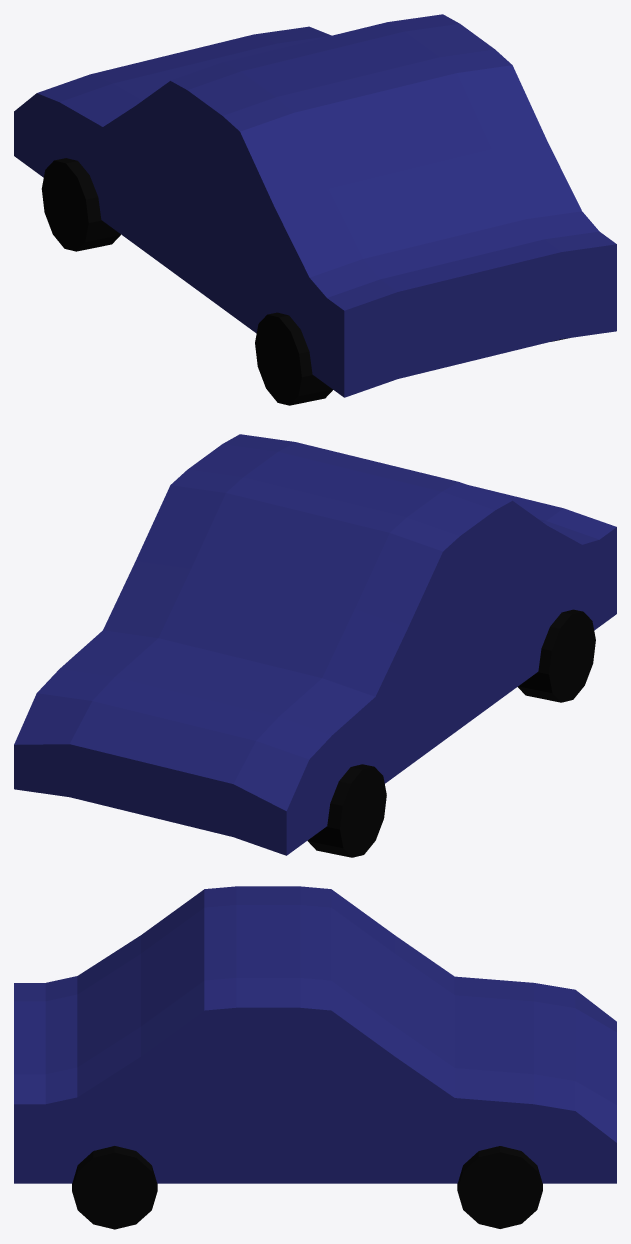
The model's file is samochód1.fbx.
The picture shows the model from 3 angles, top to bottom: view 1: azimuth 30°, elevation 25°; view 2: azimuth 150°, elevation 25°; view 3: azimuth 270°, elevation 25°; orthographic projection. The views are drawn at different scales.
Visible parts, largest first — view 1: Kostka, Walec.002, Walec.001; view 2: Kostka, Walec.002, Walec.001; view 3: Kostka, Walec.004, Walec.003.
Boxes of the visible parts, box(x1,y1,x2,y2) form: Kostka: box(14, 14, 616, 397); Walec.002: box(41, 158, 120, 251); Walec.001: box(255, 312, 332, 405); Kostka: box(14, 434, 616, 855); Walec.002: box(307, 764, 386, 857); Walec.001: box(518, 609, 595, 702); Kostka: box(14, 886, 616, 1183); Walec.004: box(72, 1146, 157, 1229); Walec.003: box(457, 1146, 542, 1228).
Bounding box in the file's own units: 319 × 246 × 608.
